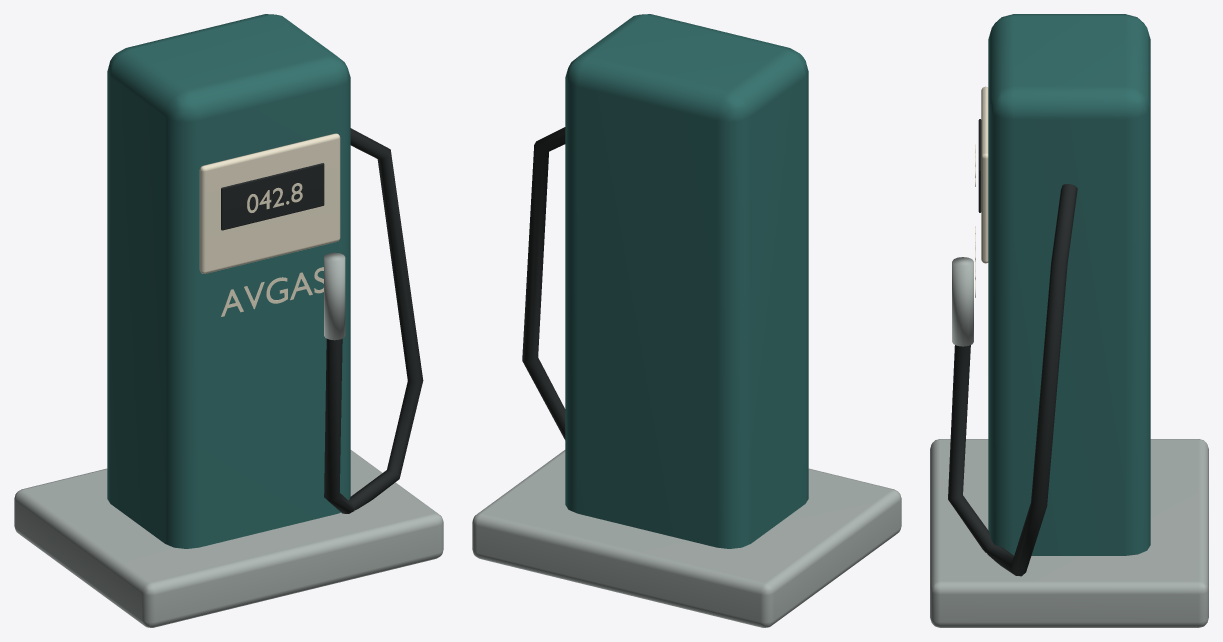
File: fuel_pump.glb
The picture shows the model from 3 angles, left to right: view 1: azimuth 30°, elevation 25°; view 2: azimuth 150°, elevation 25°; view 3: azimuth 270°, elevation 25°; orthographic projection. The views are drawn at different scales.
Parts seen in each view (by area): view 1: Fuel dispenser, Pump plinth, Pump fascia, Coiled fuel hose, Counter display, Nozzle, Fuel readout; view 2: Fuel dispenser, Pump plinth, Coiled fuel hose; view 3: Fuel dispenser, Pump plinth, Coiled fuel hose, Nozzle, Pump fascia.
Part boxes in pixels (box(x1,y1,x2,y2)): Fuel dispenser: box(107, 14, 350, 548); Pump plinth: box(14, 450, 443, 627); Pump fascia: box(199, 133, 340, 273); Coiled fuel hose: box(324, 128, 423, 513); Counter display: box(221, 163, 324, 230); Nozzle: box(324, 252, 345, 340); Fuel readout: box(221, 267, 323, 316); Fuel dispenser: box(565, 14, 808, 548); Pump plinth: box(472, 450, 901, 627); Coiled fuel hose: box(522, 127, 565, 439); Fuel dispenser: box(988, 14, 1150, 555); Pump plinth: box(930, 439, 1208, 627); Coiled fuel hose: box(948, 183, 1077, 576); Nozzle: box(952, 257, 973, 346); Pump fascia: box(981, 86, 988, 263).
Bounding box in the file's own units: 1.53 × 2.2 × 1.1.
